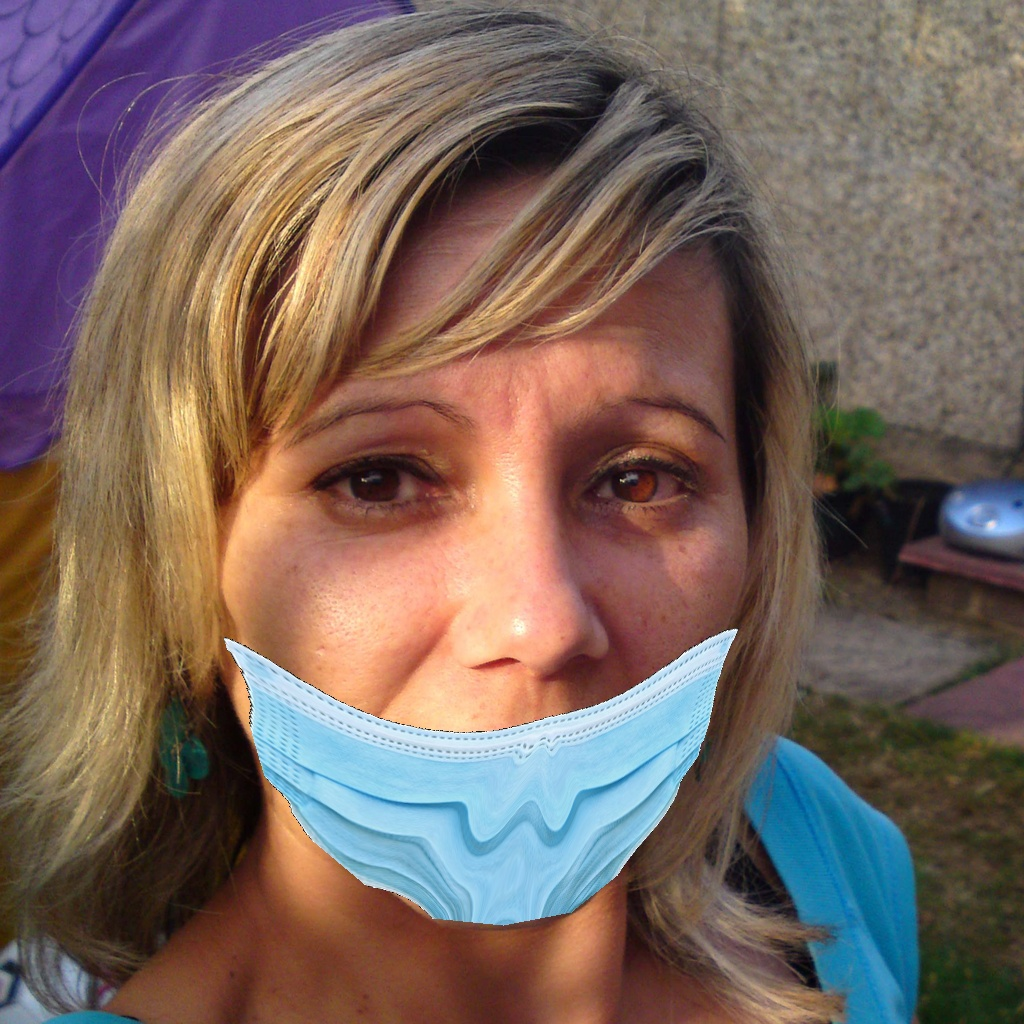mascarilla_mal_puesta: (257, 388, 757, 933)
